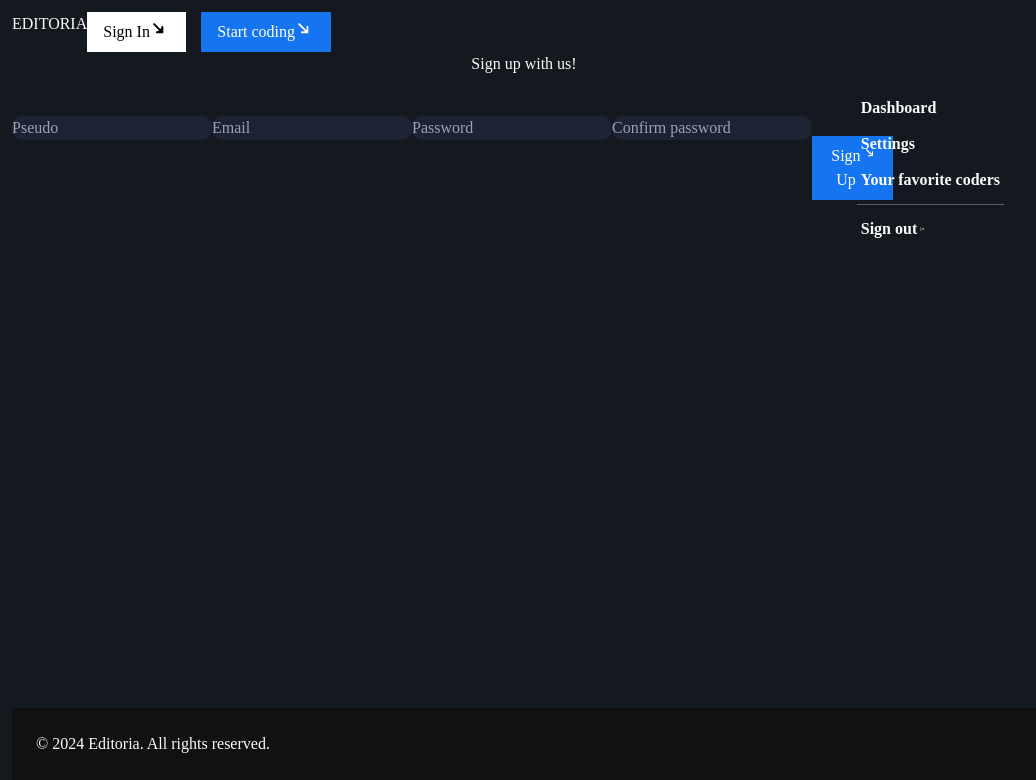
Test: Sign up component › shows error when passwords do not match
In the field with placeholder "Pseudo": (112, 128) 12,116 -> 212,140, type "Chloé"
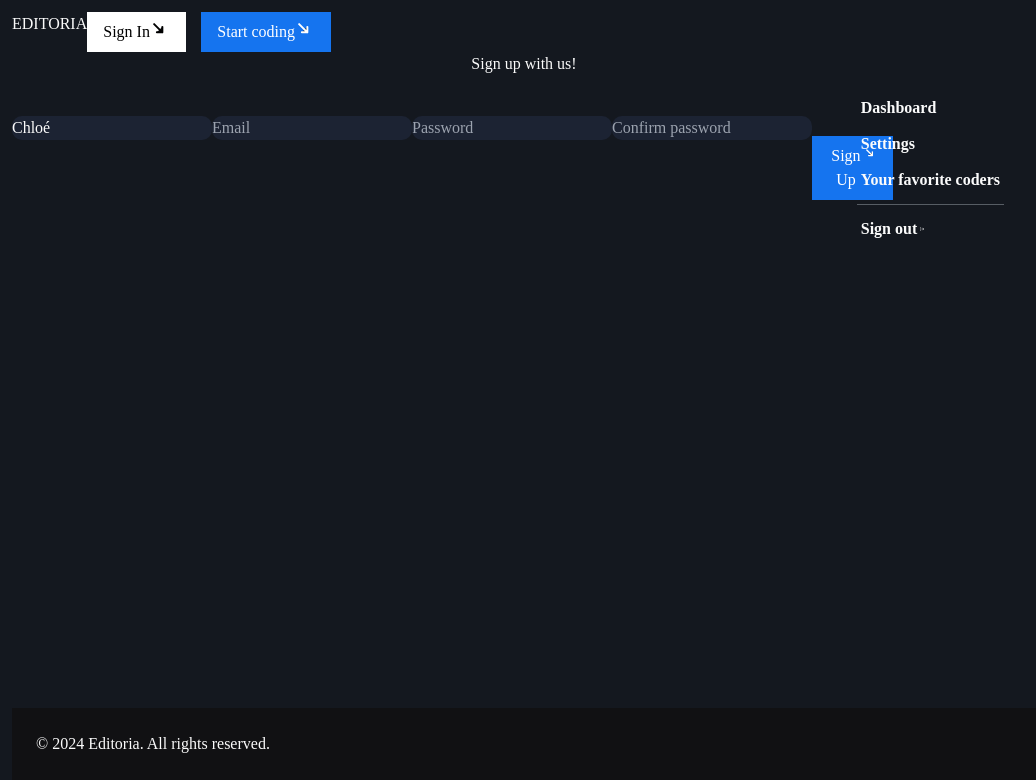
In the field with placeholder "Email": (312, 128) 212,116 -> 412,140, type "test@example.com"
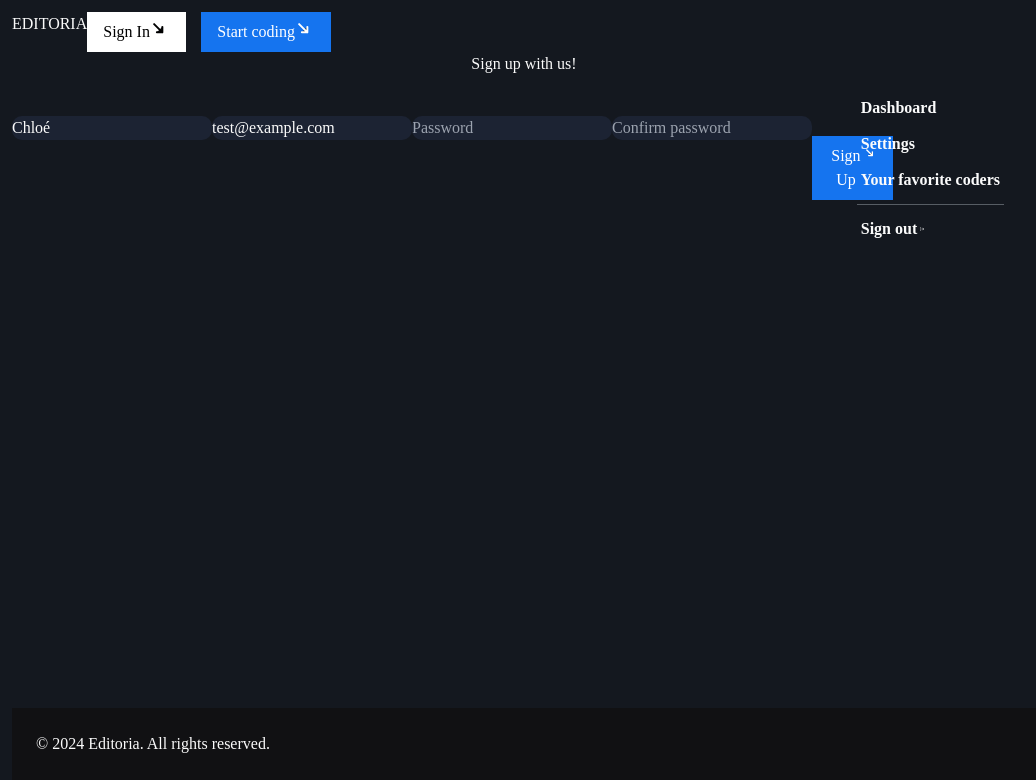
In the password field with placeholder "Password": (512, 128) 412,116 -> 612,140, type "password1234"
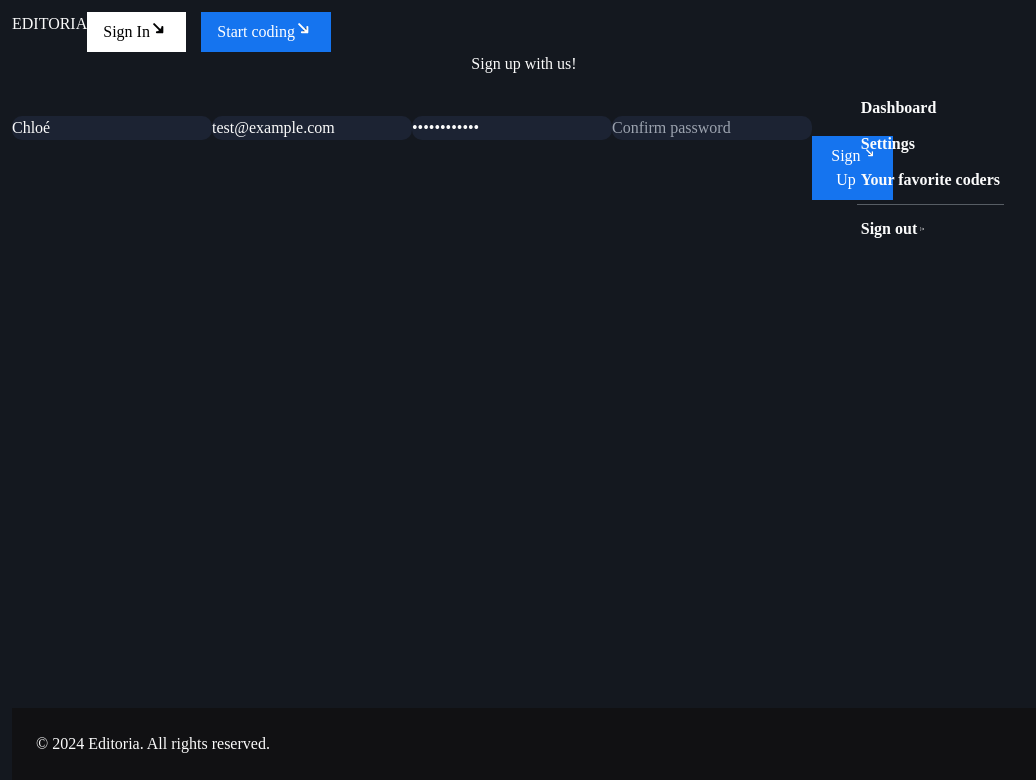
In the password field with placeholder "Confirm password": (712, 128) 612,116 -> 812,140, type "differentpassword"
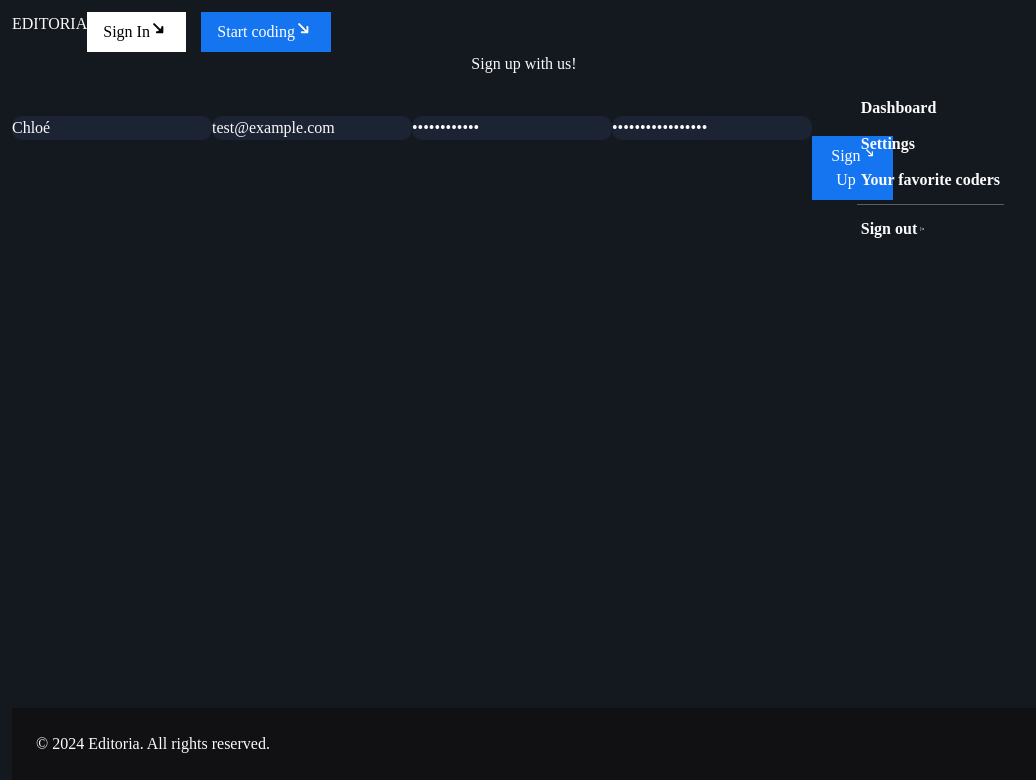
Submit the form from the button with test id "sign-up-button", box 812,136 -> 893,200
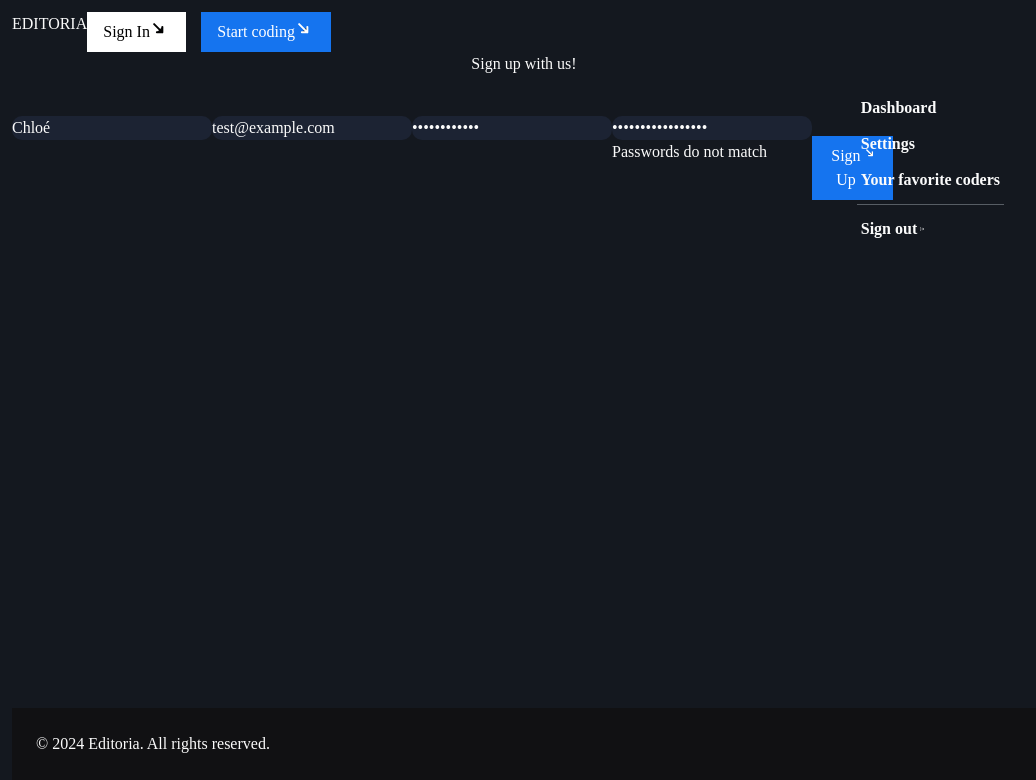
Expected: the text "Passwords do not match" is shown, 612,143 -> 767,160
